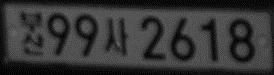1: (199, 17, 224, 62)
2: (140, 15, 166, 60)
6: (169, 17, 195, 61)
8: (228, 16, 255, 63)
9: (74, 13, 99, 57), (47, 13, 71, 56)
부산_V: (19, 10, 45, 56)
사: (104, 17, 130, 56)
